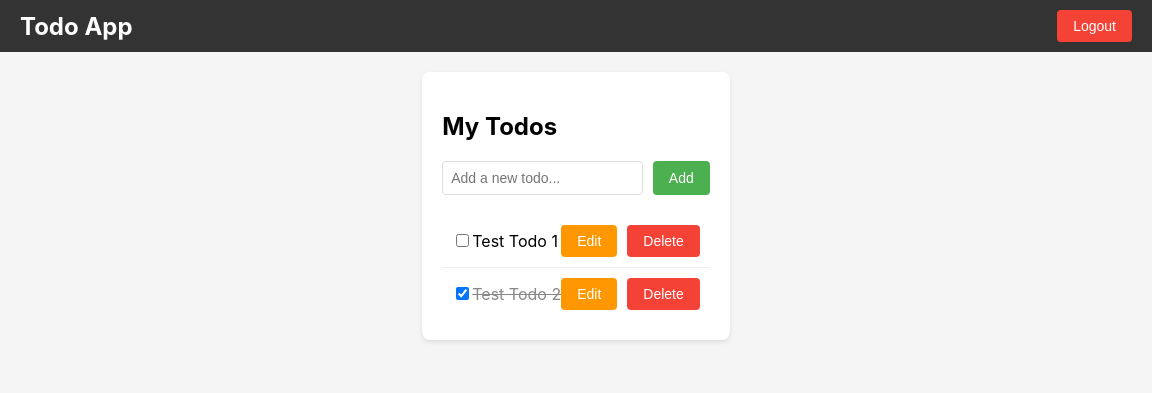
Test: Visual Tests › should match todo item in edit mode snapshot
Click the button with test id "edit-button" next to "Test Todo 1" at [589, 241], box [561,225,617,257]
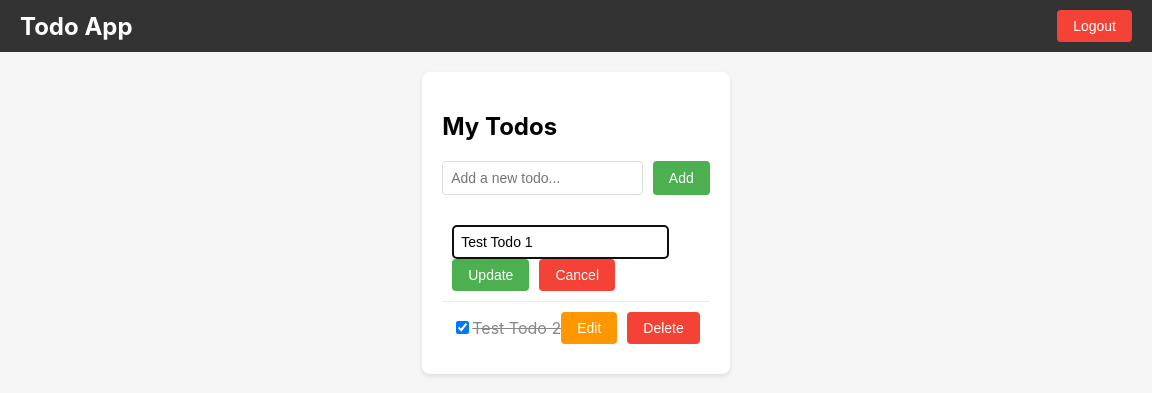
Check: the field with test id "edit-input" is shown, box [452,225,669,259]
